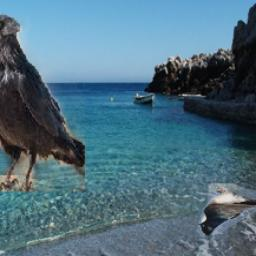Crow: (0, 14, 85, 191)
Swallow: (198, 185, 256, 236)
